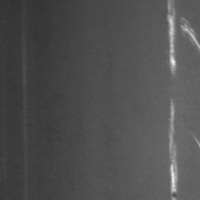scratches: (166, 100, 181, 198), (165, 1, 179, 77), (176, 14, 199, 52)
